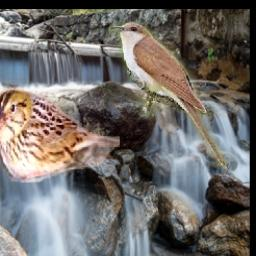Cuckoo: (110, 22, 228, 170)
Sparrow: (0, 88, 121, 183)
